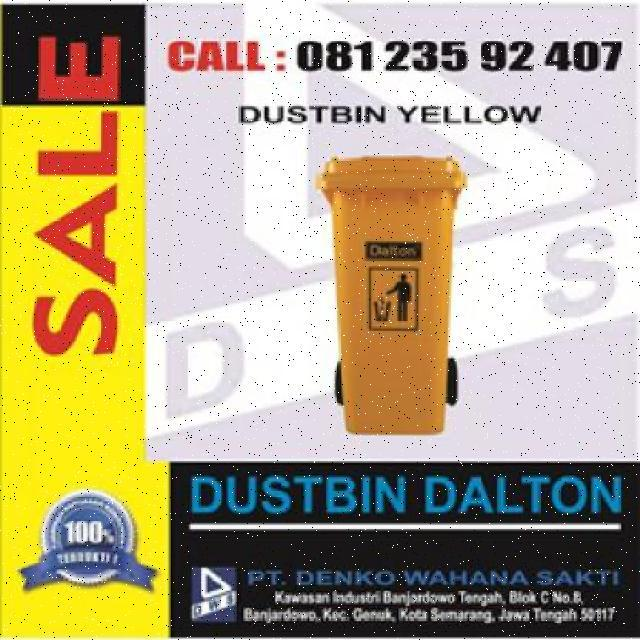garbage container: (314, 148, 473, 450)
